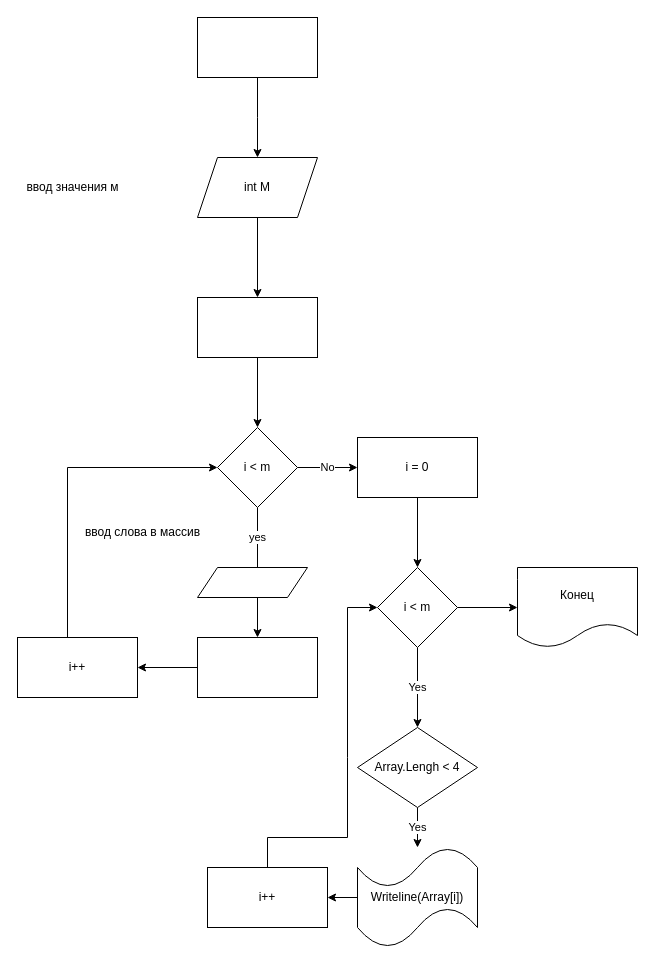
Image size: 655x965. Some labels were removed from this diagram. The centre of each missing label's shape, as x and y in pixels:
Array[i] = slovo: [257,667]
i = 0 Array[M]: [257,327]
string slovo: [252,582]
начало: [257,47]
